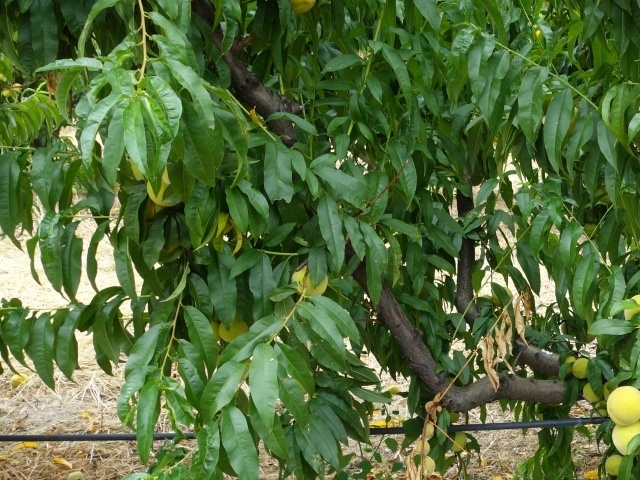peach: (141, 172, 188, 211), (605, 382, 639, 431), (291, 265, 335, 301), (608, 419, 640, 460), (212, 316, 250, 347), (602, 451, 632, 479), (568, 356, 594, 382), (445, 429, 469, 454), (580, 379, 604, 403)
